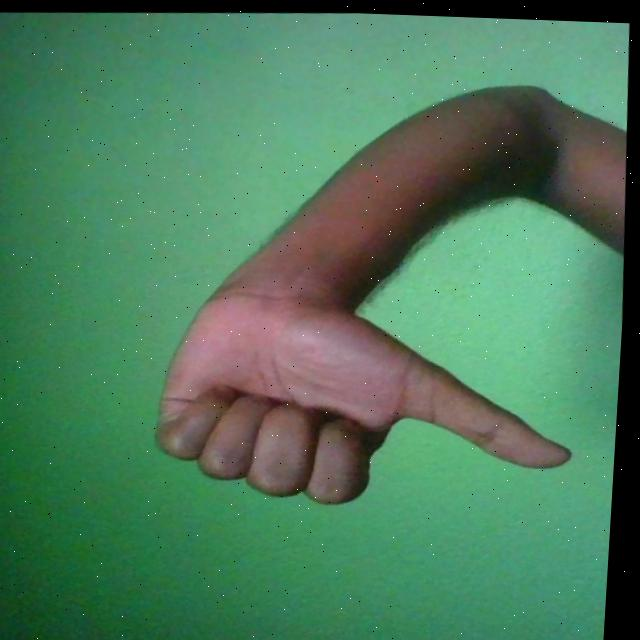Dislike: (148, 270, 588, 513)
